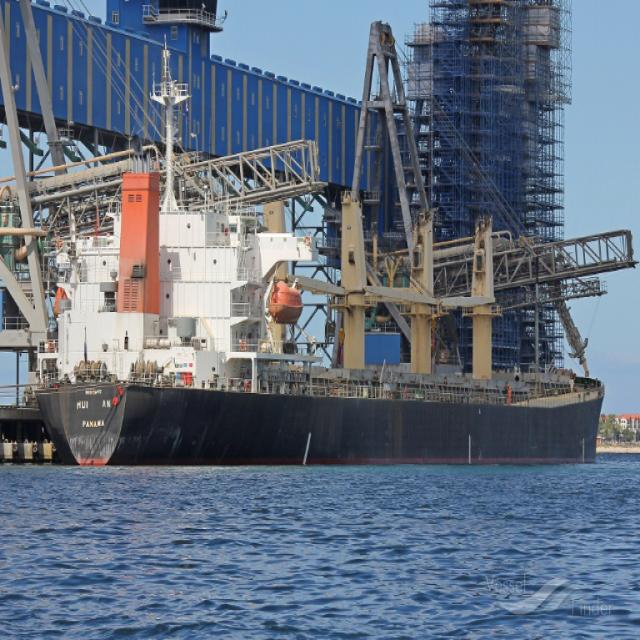OCR: (67, 382, 119, 438)
